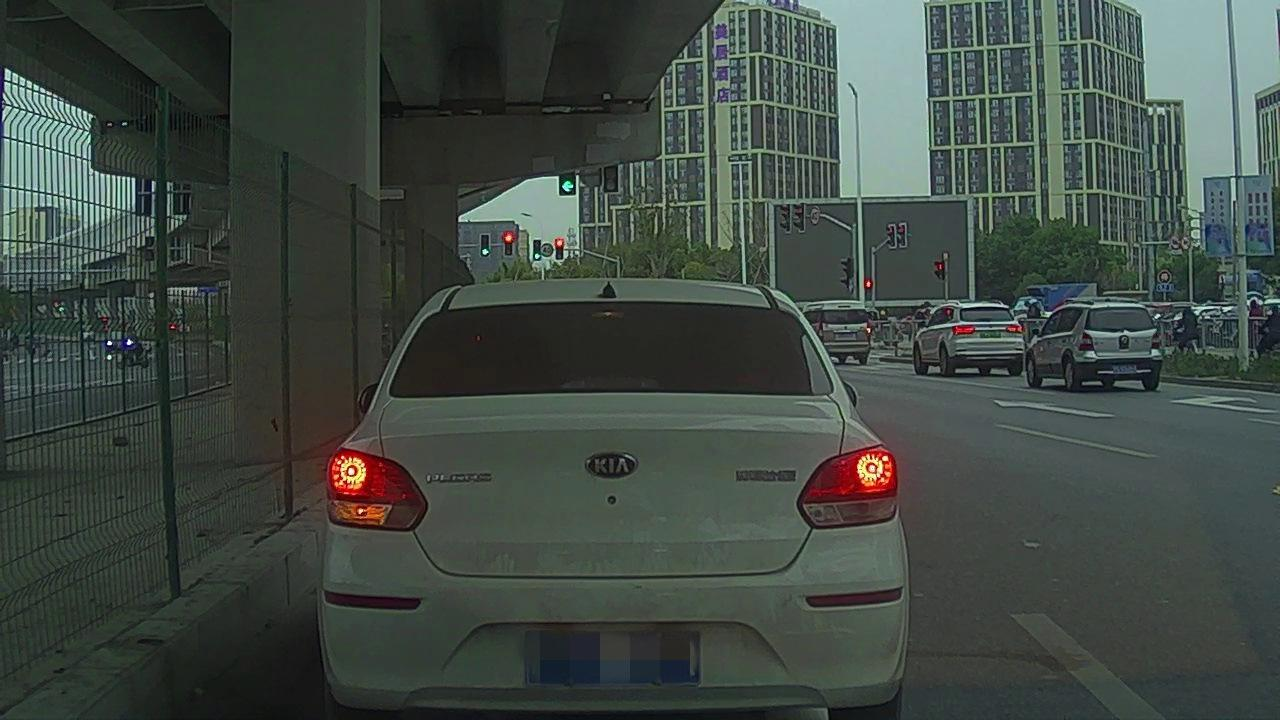traffic_light: (605, 166, 619, 193), (561, 175, 577, 194), (505, 231, 513, 255), (482, 233, 489, 255), (534, 239, 541, 260), (556, 238, 562, 259)
